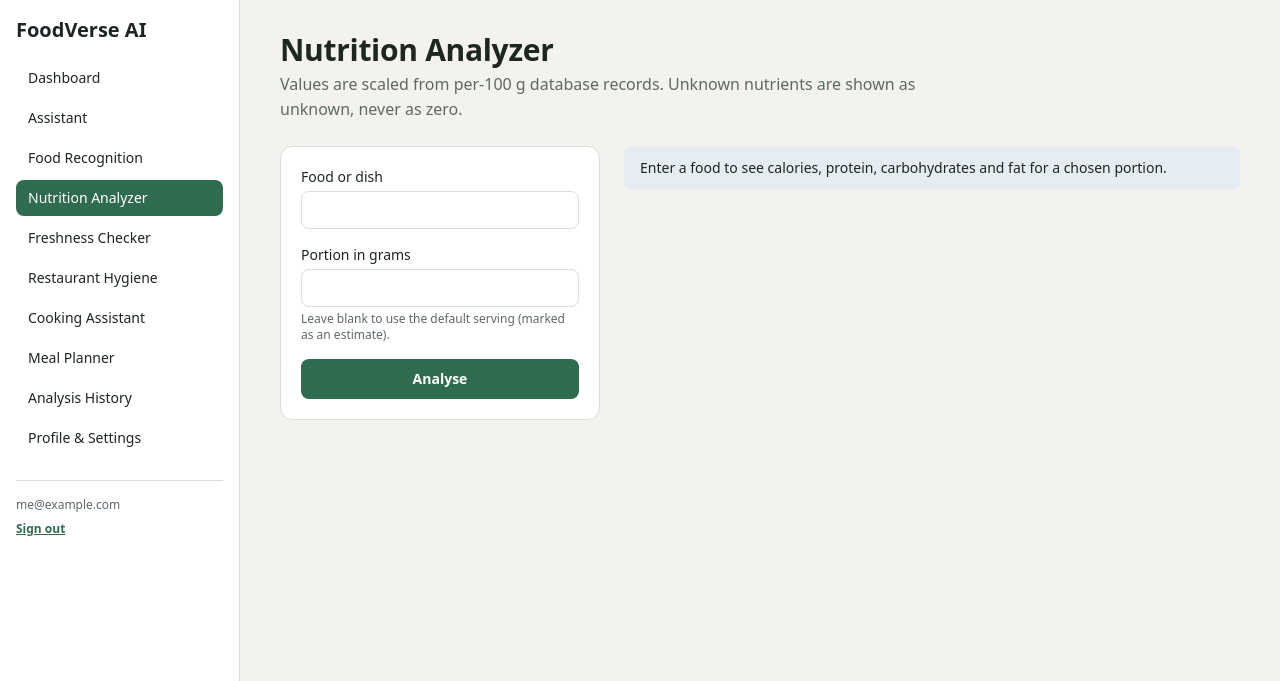
nutrition › shows unknown nutrients as unknown (never 0) and flags estimated portions
Type "fried rice" into the field labelled "Food or dish" at (440, 210), box [301,191,579,229]
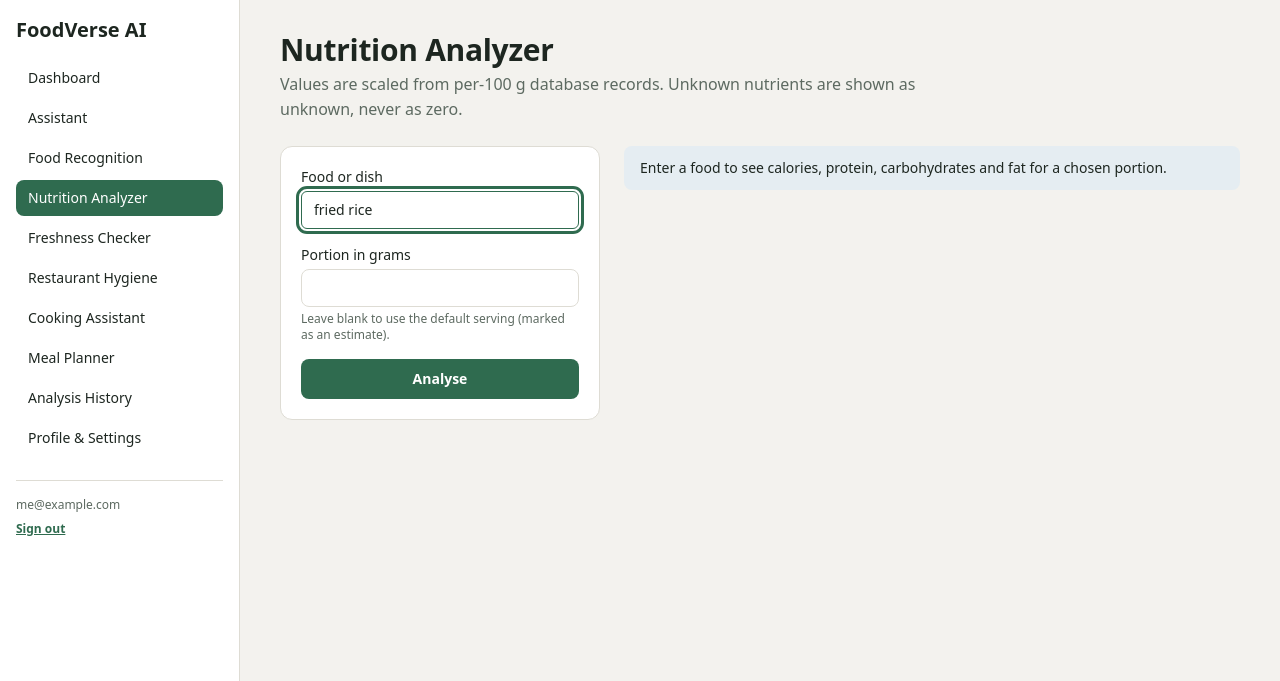
Click the button "Analyse" at (440, 379), box [301,359,579,399]
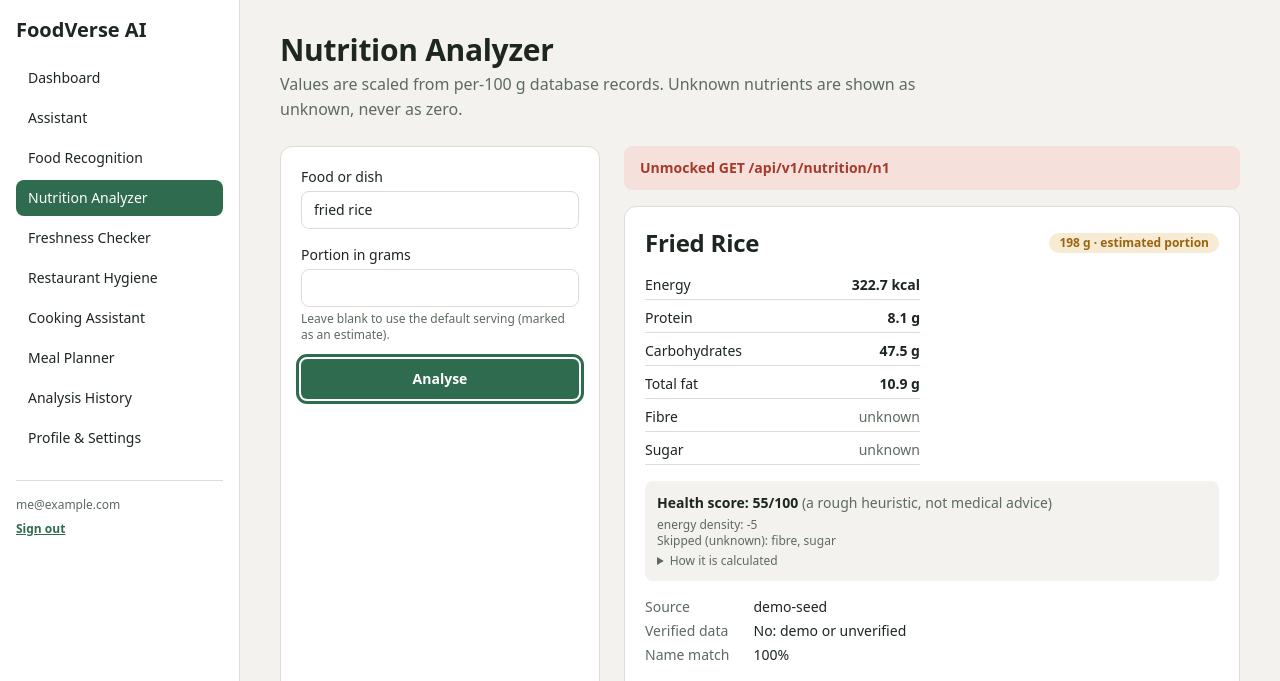
Expected: the 1st text "unknown" is shown, [859,407,920,426]
Expected: the text "198 g · estimated portion" is shown, [1049,233,1219,253]
Expected: the list item "Skipped (unknown): fibre, sugar" is shown, [657,532,836,549]
